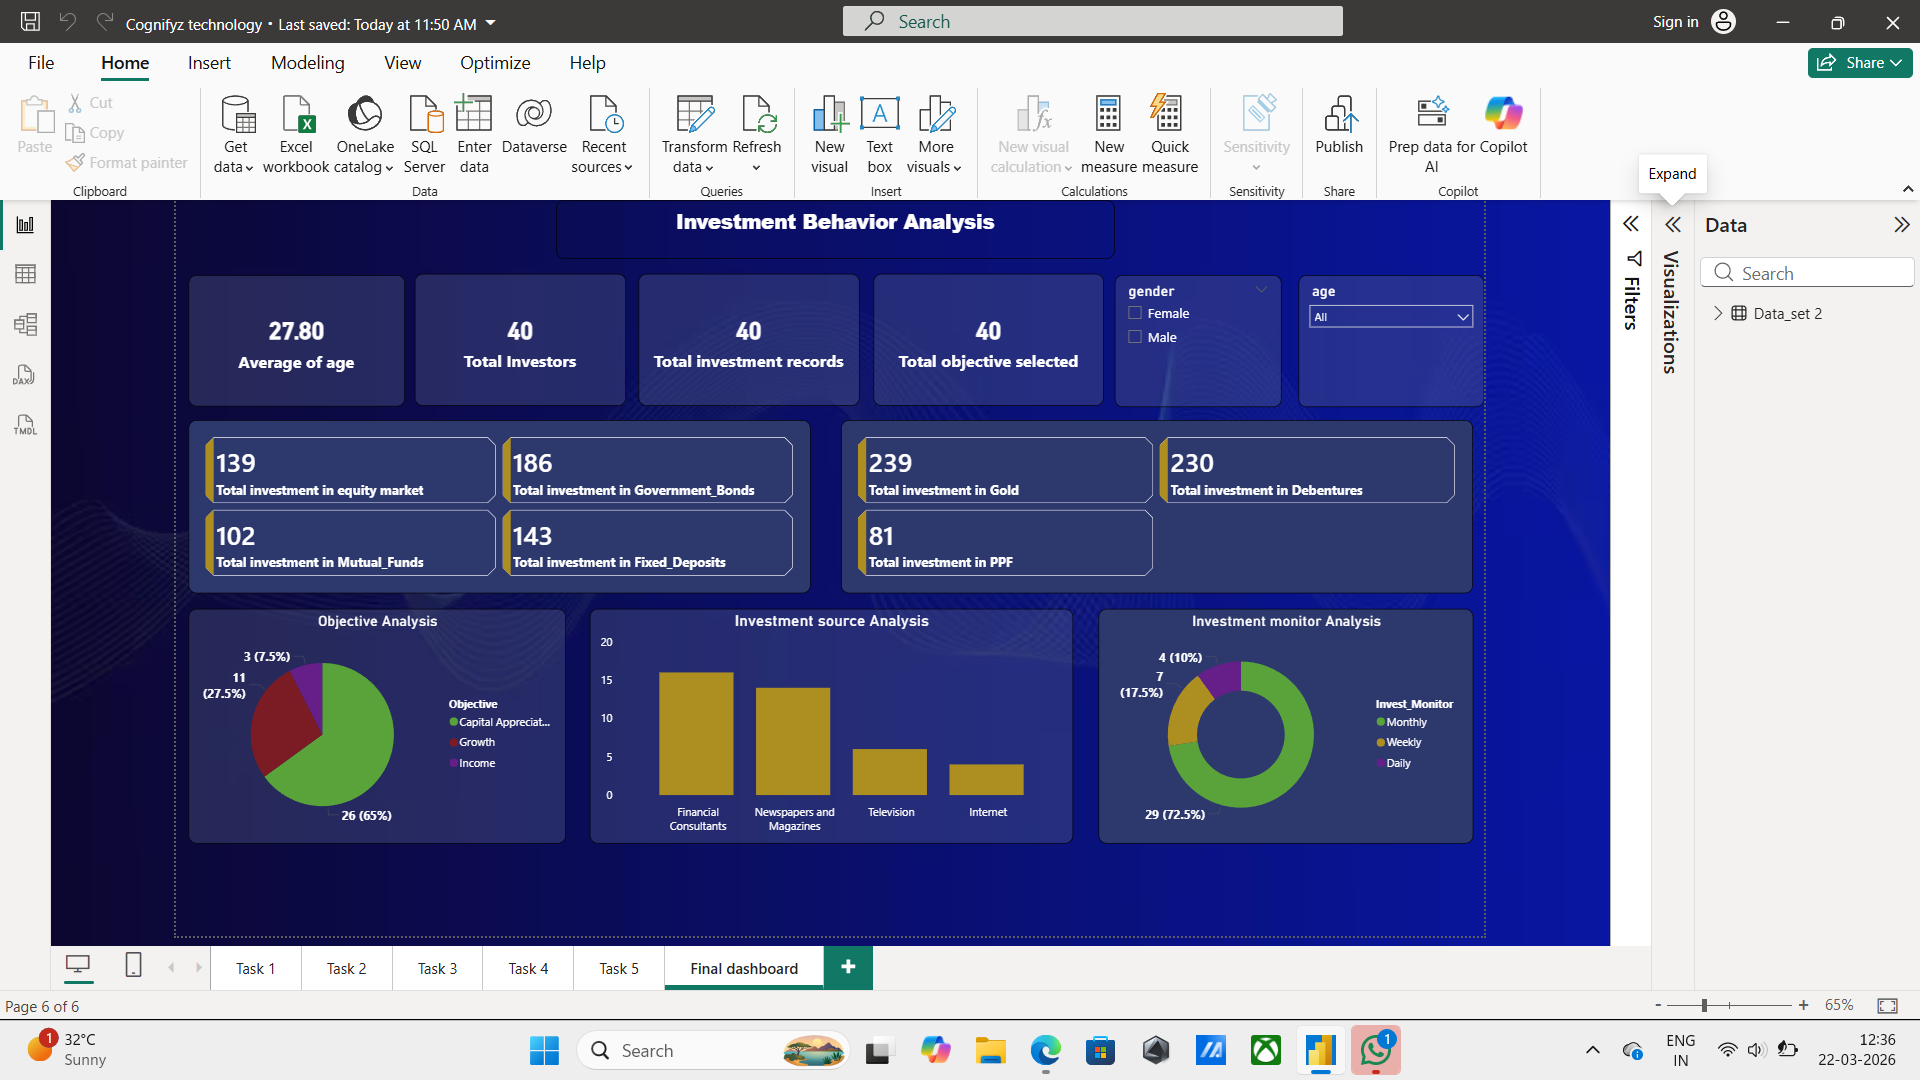

What the dashboard file says about the page in this screenshot:
{"tool":"powerbi","page":{"name":"Final dashboard","canvas":[1600,900],"ordinal":5},"visuals":[{"type":"card","fields":{"Values":["Avg(Data_set 2.age)"]},"box":[15.3,91.7,264.4,160.5],"z":0},{"type":"card","fields":{"Values":["CountNonNull(Data_set 2.gender)"]},"box":[292.1,90,258.2,161.3],"z":1000},{"type":"card","fields":{"Values":["CountNonNull(Data_set 2.Investment_Avenues)"]},"box":[565.6,90,270,161.3],"z":2000},{"type":"card","fields":{"Values":["CountNonNull(Data_set 2.Objective)"]},"box":[852.6,90,281.9,161.3],"z":3000},{"type":"textbox","box":[464.7,0,683.3,71.8],"z":4000},{"type":"cardVisual","fields":{"Data":["Sum(Data_set 2.Equity_Market)","Sum(Data_set 2.Government_Bonds)","Sum(Data_set 2.Mutual_Funds)","Sum(Data_set 2.Fixed_Deposits)"]},"box":[15.3,268.3,760.9,212.3],"z":5000},{"type":"cardVisual","fields":{"Data":["Sum(Data_set 2.Gold)","Sum(Data_set 2.Debentures)","Sum(Data_set 2.PPF)"]},"box":[813.5,268.3,772.8,212.3],"z":6000},{"type":"slicer","fields":{"Values":["Data_set 2.gender"]},"box":[1148.1,91.7,203.8,161.3],"z":7000},{"type":"slicer","fields":{"Values":["Data_set 2.age"]},"box":[1372.3,91.7,227.6,161.3],"z":8000},{"type":"pieChart","title":"Objective Analysis","fields":{"Category":["Data_set 2.Objective"],"Y":["CountNonNull(Data_set 2.Objective)"]},"box":[15.3,499.8,461.6,287.4],"z":9000},{"type":"donutChart","title":"Investment monitor Analysis","fields":{"Category":["Data_set 2.Invest_Monitor"],"Y":["CountNonNull(Data_set 2.Invest_Monitor)"]},"box":[1128.1,499.8,458.6,287.4],"z":10000},{"type":"columnChart","title":"Investment source Analysis","fields":{"Category":["Data_set 2.Source"],"Y":["CountNonNull(Data_set 2.Source)"]},"box":[506.1,499.3,591,287],"z":11000}]}

Visuals, with their boxes on the page's 1600x900 design canvas (x1, y1, x2, y2). These are canvas units, not pixel positions in the 1920x1080 screenshot, which may show the page scaled, cropped or inside an application window:
card - Avg(Data_set 2.age): locate(15, 92, 280, 252)
card - CountNonNull(Data_set 2.gender): locate(292, 90, 550, 251)
card - CountNonNull(Data_set 2.Investment_Avenues): locate(566, 90, 836, 251)
card - CountNonNull(Data_set 2.Objective): locate(853, 90, 1134, 251)
textbox: locate(465, 0, 1148, 72)
cardVisual - Sum(Data_set 2.Equity_Market) x Sum(Data_set 2.Government_Bonds): locate(15, 268, 776, 481)
cardVisual - Sum(Data_set 2.Gold) x Sum(Data_set 2.Debentures): locate(814, 268, 1586, 481)
slicer - Data_set 2.gender: locate(1148, 92, 1352, 253)
slicer - Data_set 2.age: locate(1372, 92, 1600, 253)
"Objective Analysis" pieChart: locate(15, 500, 477, 787)
"Investment monitor Analysis" donutChart: locate(1128, 500, 1587, 787)
"Investment source Analysis" columnChart: locate(506, 499, 1097, 786)
